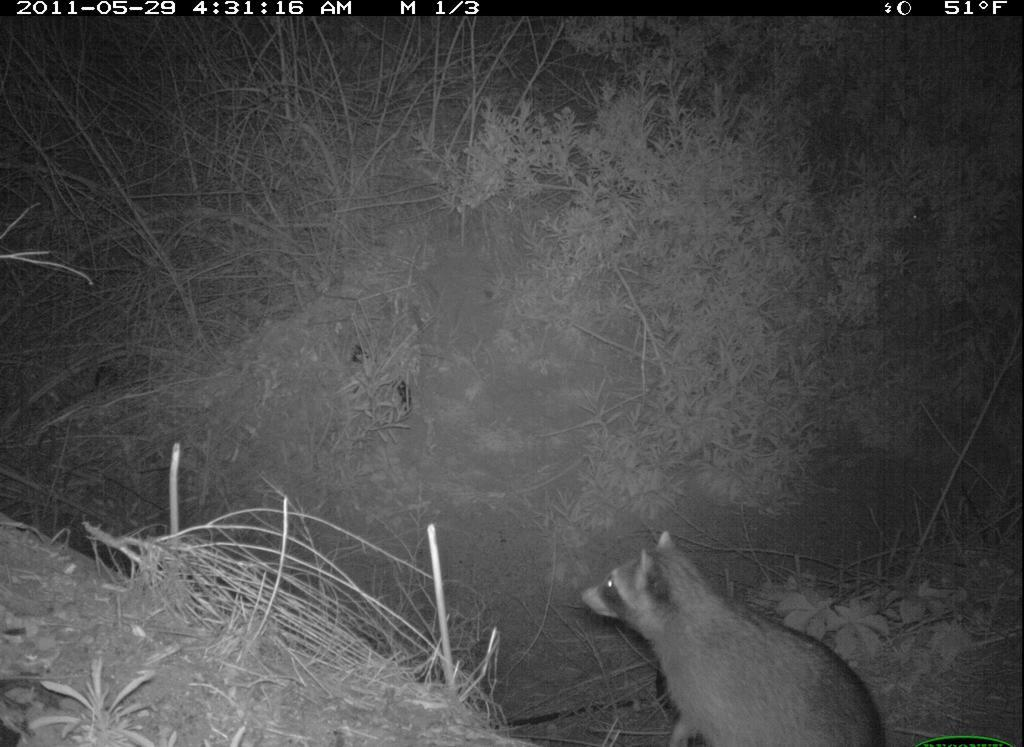raccoon: (577, 528, 891, 747)
